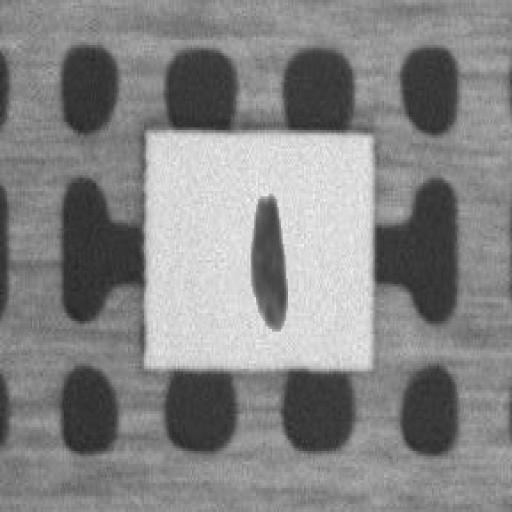DIE_INK: (366, 123, 430, 224)
